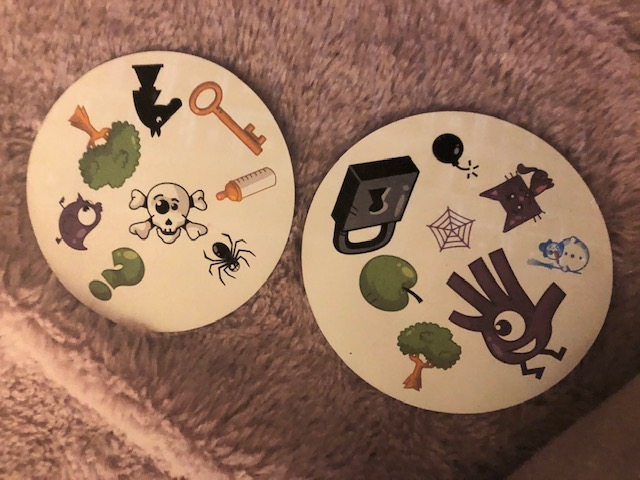araignee: (199, 227, 260, 287)
arbre: (62, 103, 143, 192), (390, 321, 461, 393)
biberon: (214, 164, 279, 207)
bombe: (428, 129, 479, 179)
bonhomme_neige: (522, 233, 592, 279)
cadenas: (328, 150, 422, 257)
chat: (474, 161, 558, 235)
cheval: (127, 59, 181, 140)
cle: (186, 73, 270, 156)
dooble: (439, 239, 580, 381)
oiseau: (49, 192, 109, 252)
point_interrogation: (88, 247, 150, 304)
pomme: (355, 250, 426, 315)
tete_mort: (126, 179, 210, 247)
toile: (422, 201, 480, 253)
